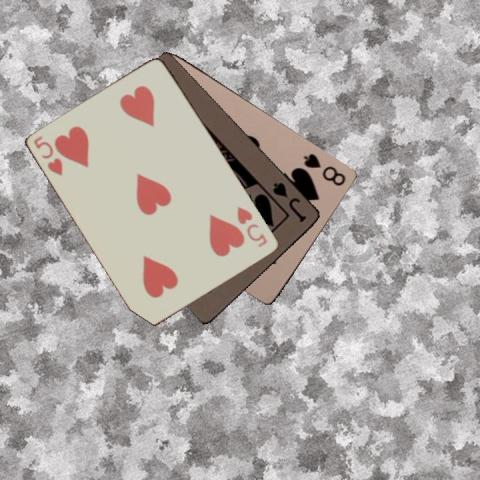5h: (234, 203, 269, 249), (30, 133, 64, 177)
8s: (301, 150, 348, 187)
Js: (270, 178, 309, 224)
